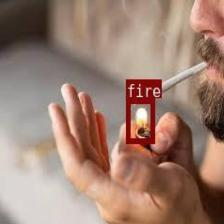fire: (125, 97, 154, 142)
